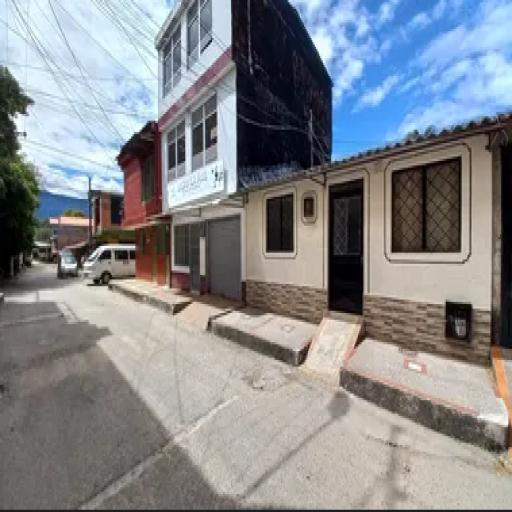casa: (238, 136, 490, 372), (144, 0, 244, 298)
